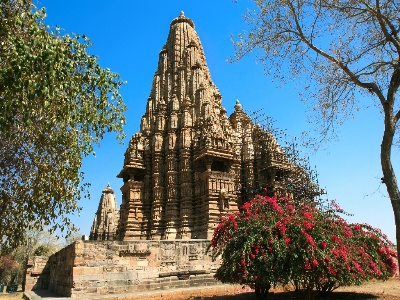gopuram: (161, 24, 228, 145)
mandapa: (186, 150, 239, 182), (111, 161, 146, 188)
